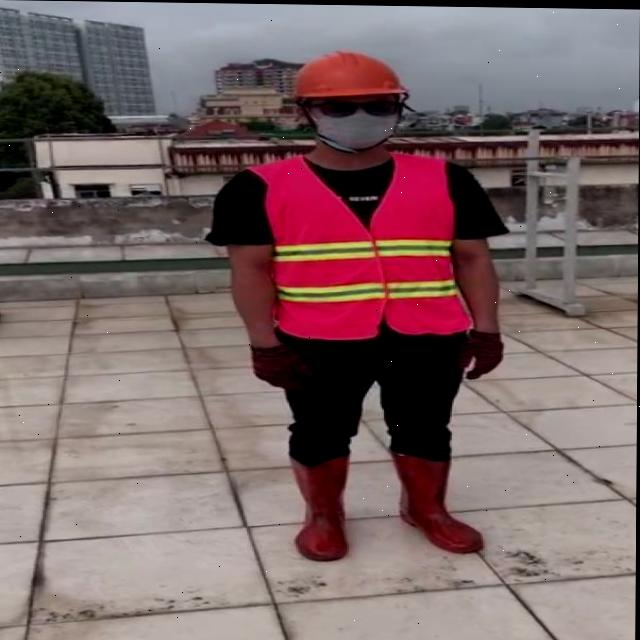Gloves: (250, 340, 314, 391), (453, 327, 504, 378)
Safety-Boot: (389, 444, 484, 552), (288, 448, 350, 560)
Safety-Vest: (248, 149, 475, 341)
